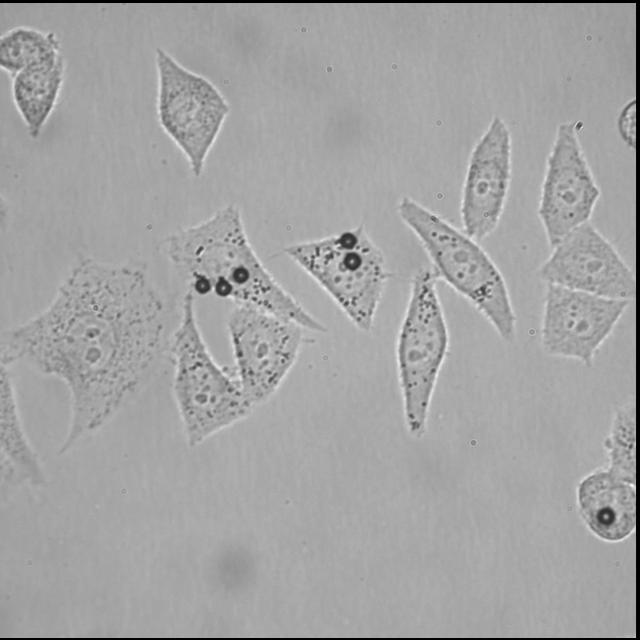microbeads: (342, 250, 363, 272), (339, 230, 358, 250), (215, 276, 232, 298), (598, 506, 616, 526), (232, 265, 250, 283), (193, 277, 210, 293)
